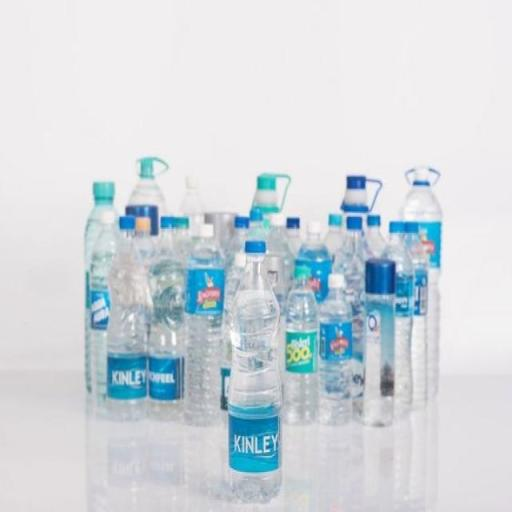plastic: (223, 240, 283, 511)
